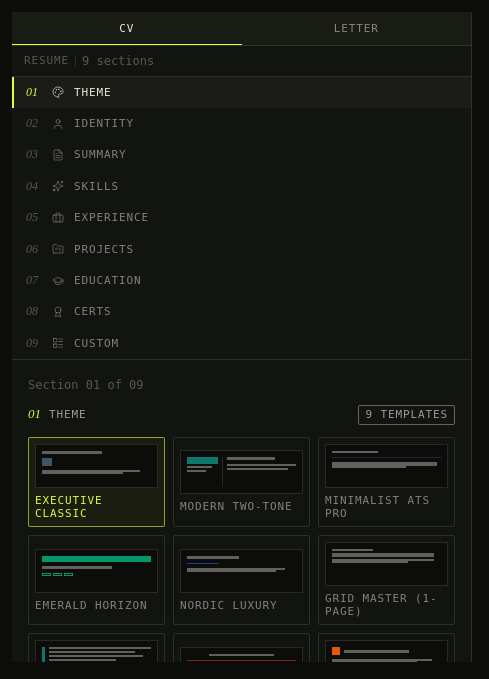
it: CV and Letter are separate sections › returns to the CV tabs when switching back
Click the tab "Letter".
click(356, 29)  # box x1=242 y1=12 x2=471 y2=45
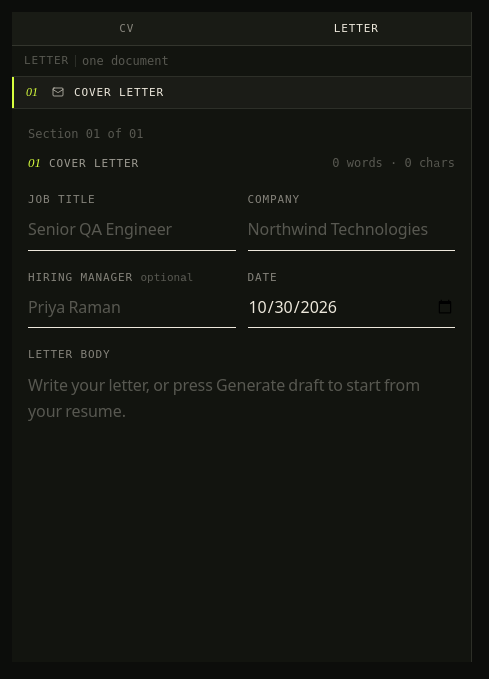
Click the tab "CV".
click(127, 29)  # box x1=12 y1=12 x2=242 y2=45
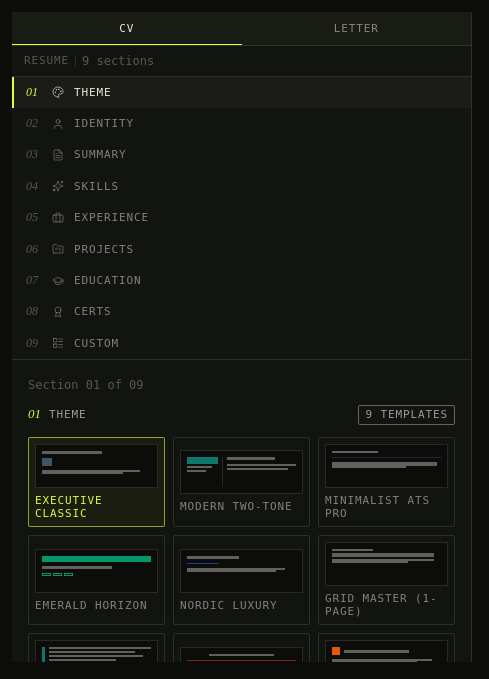
Expected: the tab "03 Summary" is shown, x1=12 y1=139 x2=471 y2=171
Expected: the tab "Cover Letter" is gone
